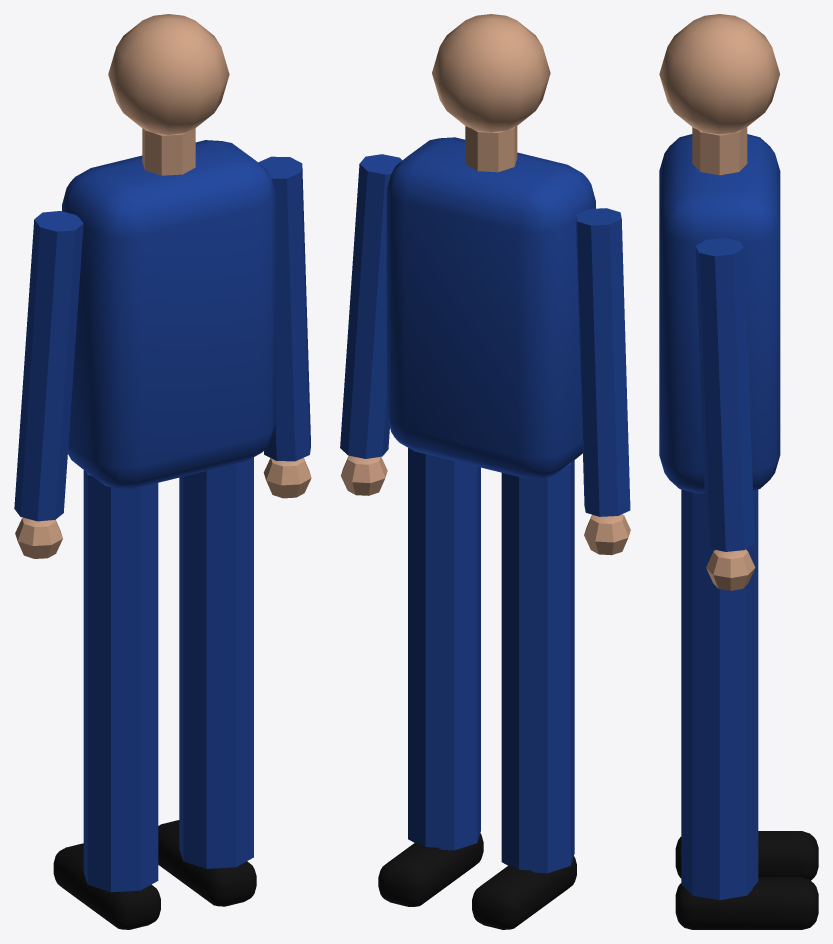
File: people.staff.nurse.glb
3 views of the same model, side by side, from view 1: azimuth 30°, elevation 25°; view 2: azimuth 150°, elevation 25°; view 3: azimuth 270°, elevation 25° (orthographic). The views are drawn at different scales.
Visible parts, largest first — view 1: main__plastic_blue, main__skin, main__plastic_black; view 2: main__plastic_blue, main__skin, main__plastic_black; view 3: main__plastic_blue, main__skin, main__plastic_black.
Part boxes in pixels (x1,y1,x2,y2): main__plastic_blue: [14, 140, 310, 892]; main__skin: [15, 14, 311, 558]; main__plastic_black: [53, 820, 256, 929]; main__plastic_blue: [340, 137, 630, 873]; main__skin: [341, 14, 630, 555]; main__plastic_black: [378, 833, 576, 929]; main__plastic_blue: [659, 134, 780, 900]; main__skin: [659, 14, 779, 590]; main__plastic_black: [675, 831, 818, 929].
Size of the model in its own units: 0.61 by 1.77 by 0.29.
